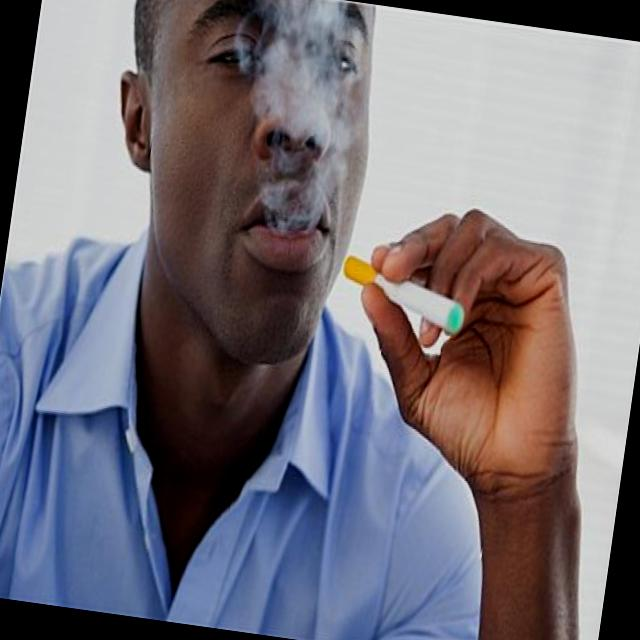smoke: (333, 244, 476, 346)
